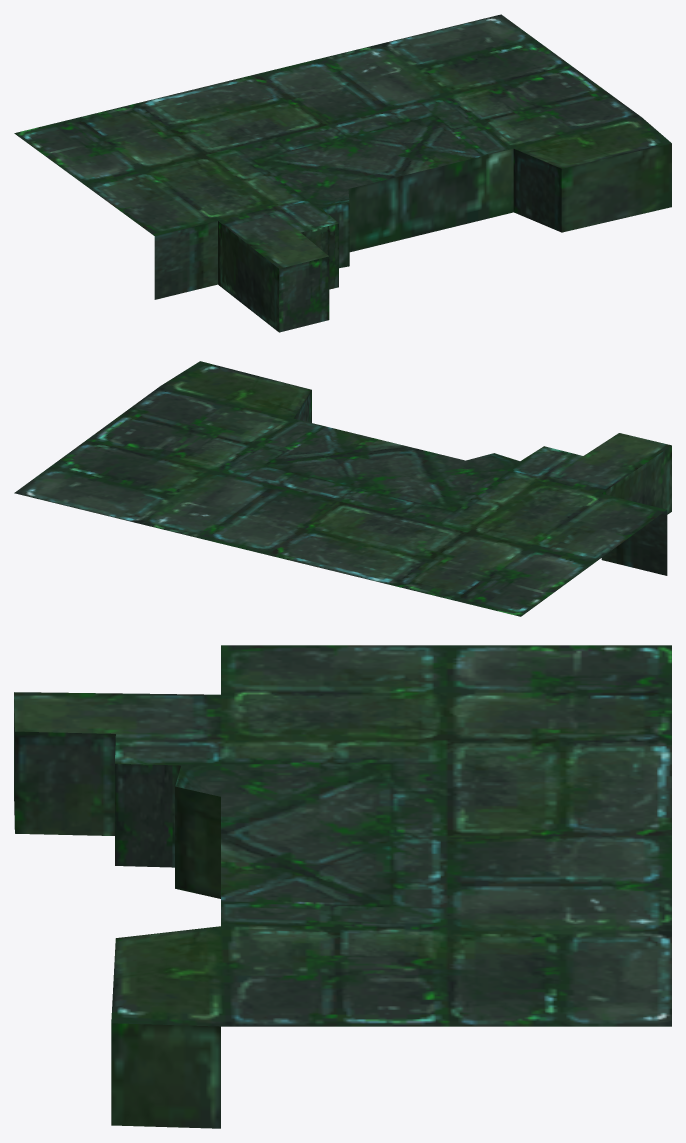
File: stemple_floor_straight_noshadow_03.fbx
3 views of the same model, one above another, from view 1: azimuth 30°, elevation 25°; view 2: azimuth 150°, elevation 25°; view 3: azimuth 270°, elevation 25° (orthographic). The views are drawn at different scales.
Visible parts, largest first — view 1: sunken_tileset/sunken_floor02_mat; view 2: sunken_tileset/sunken_floor02_mat; view 3: sunken_tileset/sunken_floor02_mat.
Part boxes in pixels (box(x1,y1,x2,y2)): sunken_tileset/sunken_floor02_mat: box(14, 14, 671, 332); sunken_tileset/sunken_floor02_mat: box(14, 361, 671, 616); sunken_tileset/sunken_floor02_mat: box(14, 645, 671, 1128).
Bounding box in the file's own units: 4 × 0.5 × 2.92.
